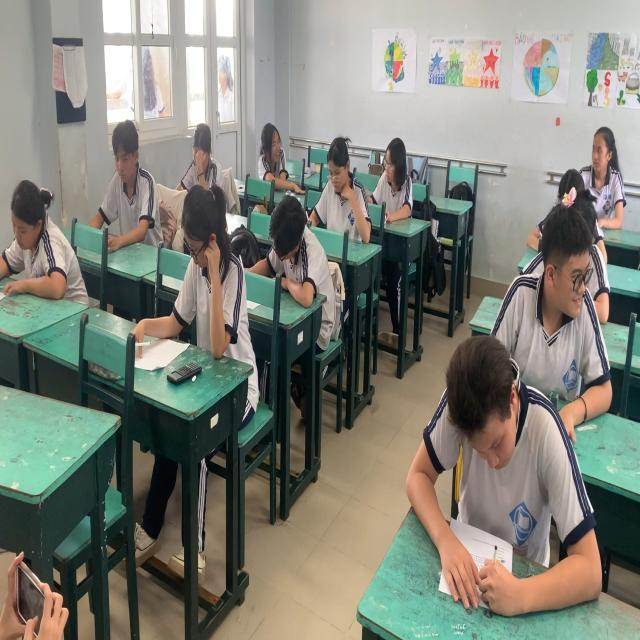cheating: (486, 215, 606, 376), (95, 92, 176, 251), (554, 77, 630, 221), (360, 101, 418, 245), (244, 110, 294, 192)
not_cheating: (383, 296, 589, 600), (1, 101, 86, 283), (531, 109, 617, 274), (145, 186, 229, 352), (260, 158, 326, 314), (305, 116, 370, 251), (171, 108, 220, 204)
